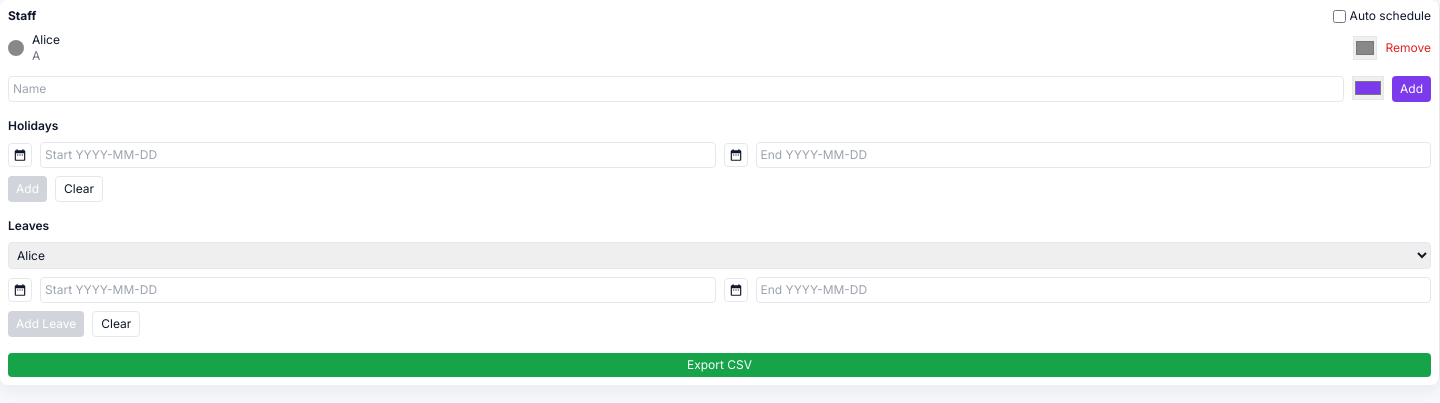
Scenario: disables Add Leave when end < start and Clear resets
Type "2025-09-10" into the date field named "leave start" at (720, 307), box x1=8 y1=277 x2=1431 y2=337
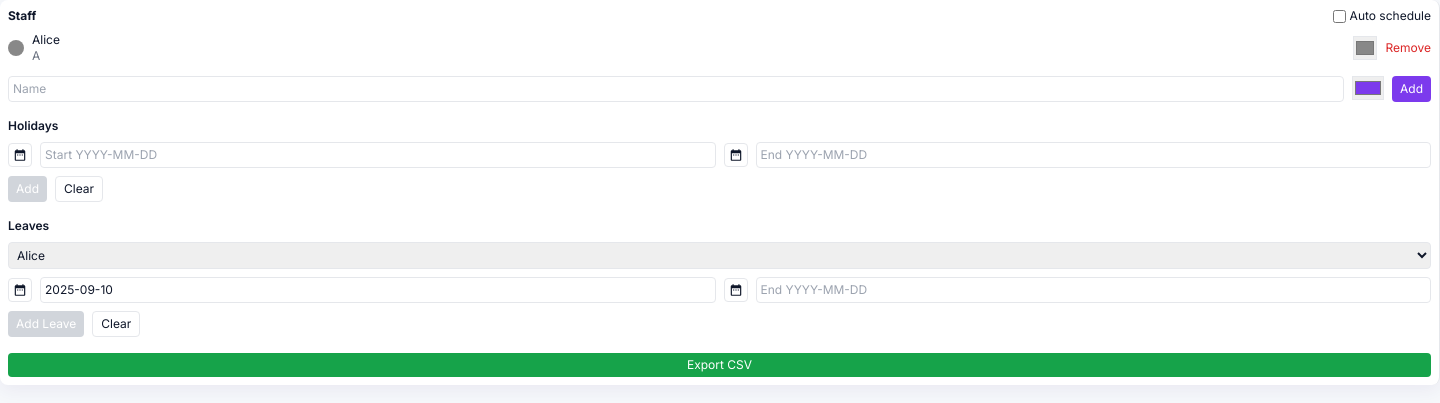
Type "2025-09-09" into the date field named "leave end" at (720, 307), box x1=8 y1=277 x2=1431 y2=337
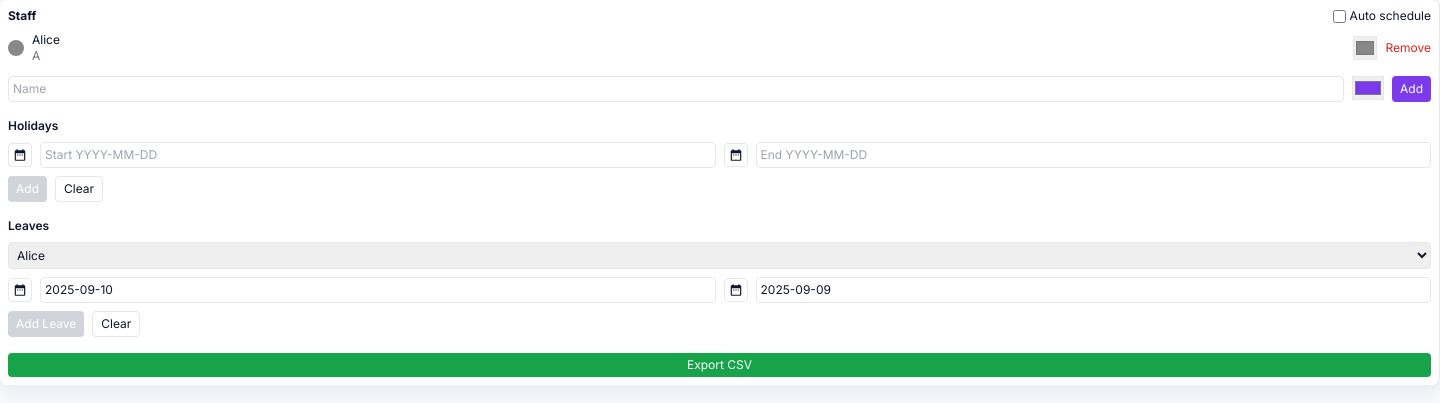
Expected: the button "Add Leave" is disabled, x1=8 y1=311 x2=84 y2=337
Click the button with aria-label "Clear leave selection" at (116, 324), box x1=92 y1=311 x2=140 y2=337
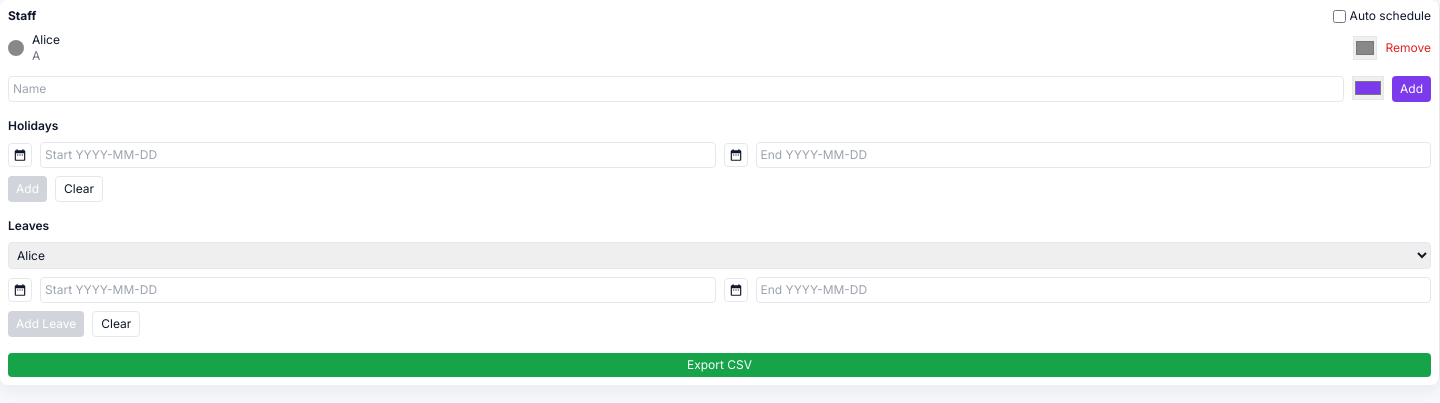
Expected: the field named "selected leave start" is empty, x1=40 y1=277 x2=716 y2=303
Expected: the field named "selected leave end" is empty, x1=756 y1=277 x2=1431 y2=303
